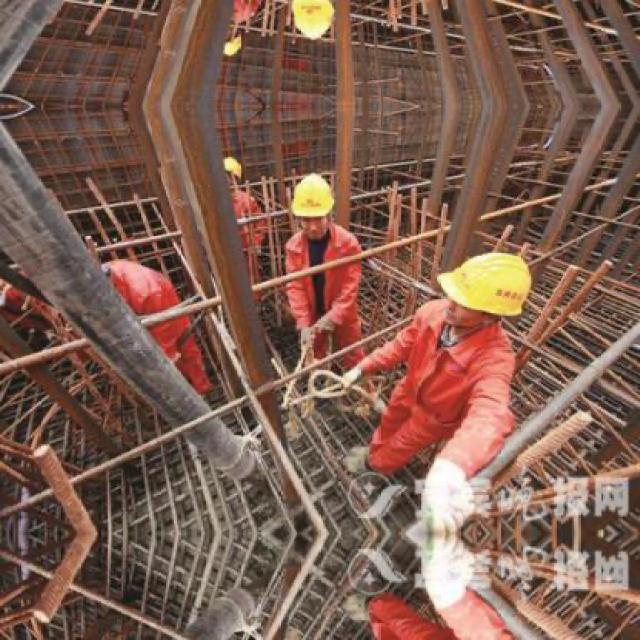helmet: (440, 247, 535, 330), (288, 170, 337, 242), (288, 0, 338, 45), (212, 154, 243, 190), (212, 25, 243, 60)
